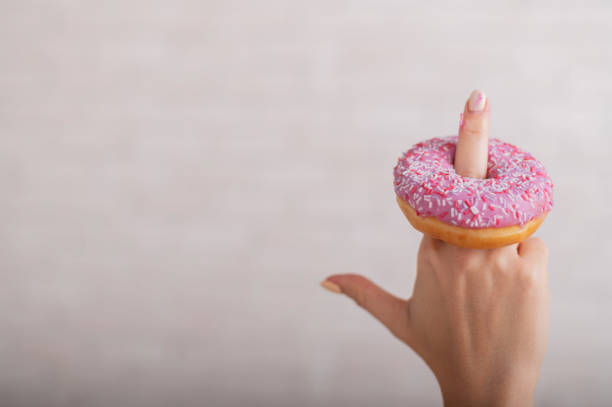insulting_gesture: (315, 88, 555, 407)
